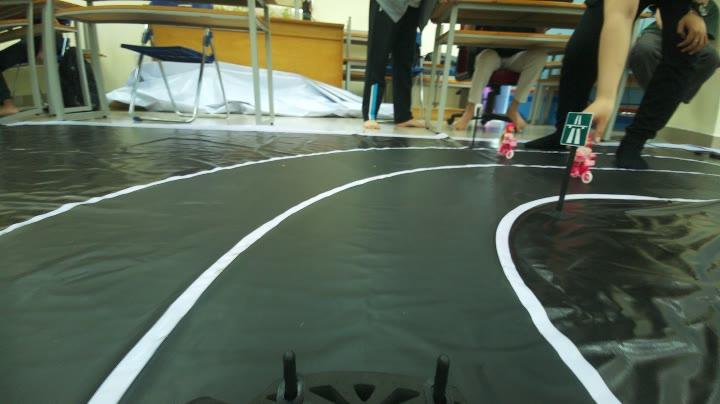highway_entry: (562, 104, 594, 150)
